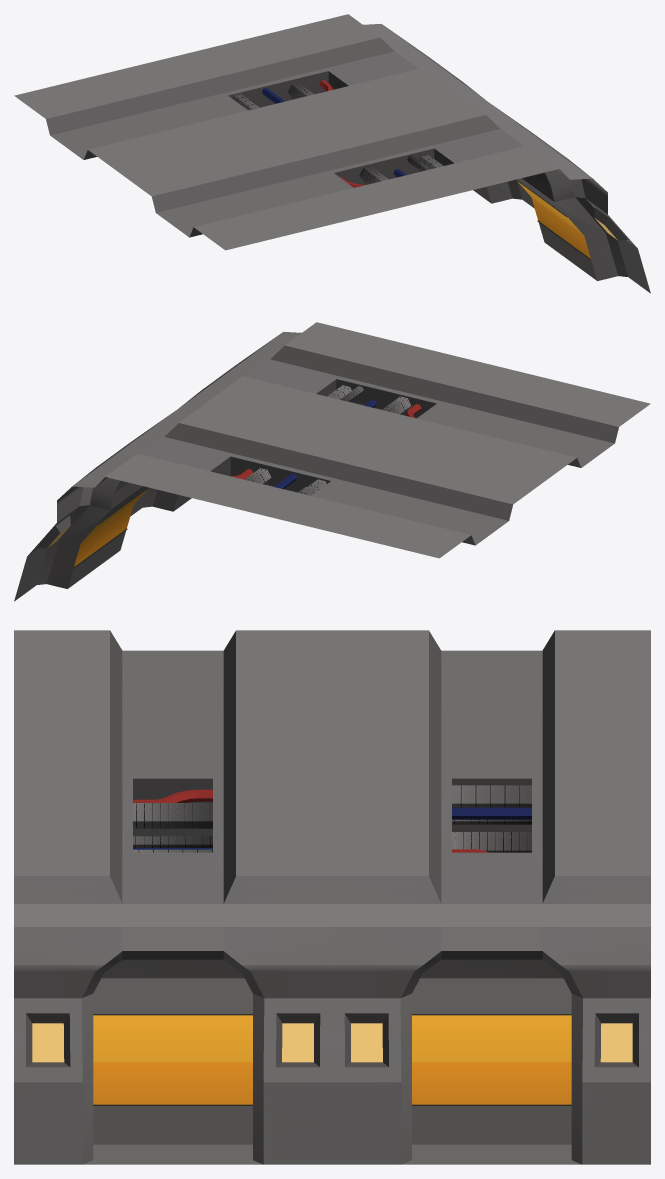
Rendered from Side_Border_Wall.fbx.
3 views of the same model, one above another, from view 1: azimuth 30°, elevation 25°; view 2: azimuth 150°, elevation 25°; view 3: azimuth 270°, elevation 25° (orthographic). The views are drawn at different scales.
Visible parts, largest first — view 1: Side_Wall; view 2: Side_Wall; view 3: Side_Wall.
Part boxes in pixels (x1=…): Side_Wall: x1=14, y1=14, x2=650, y2=293; Side_Wall: x1=14, y1=322, x2=650, y2=601; Side_Wall: x1=14, y1=630, x2=650, y2=1164.
Size of the model in its own units: 839 by 277 by 722.
1 material, 1 textured.
